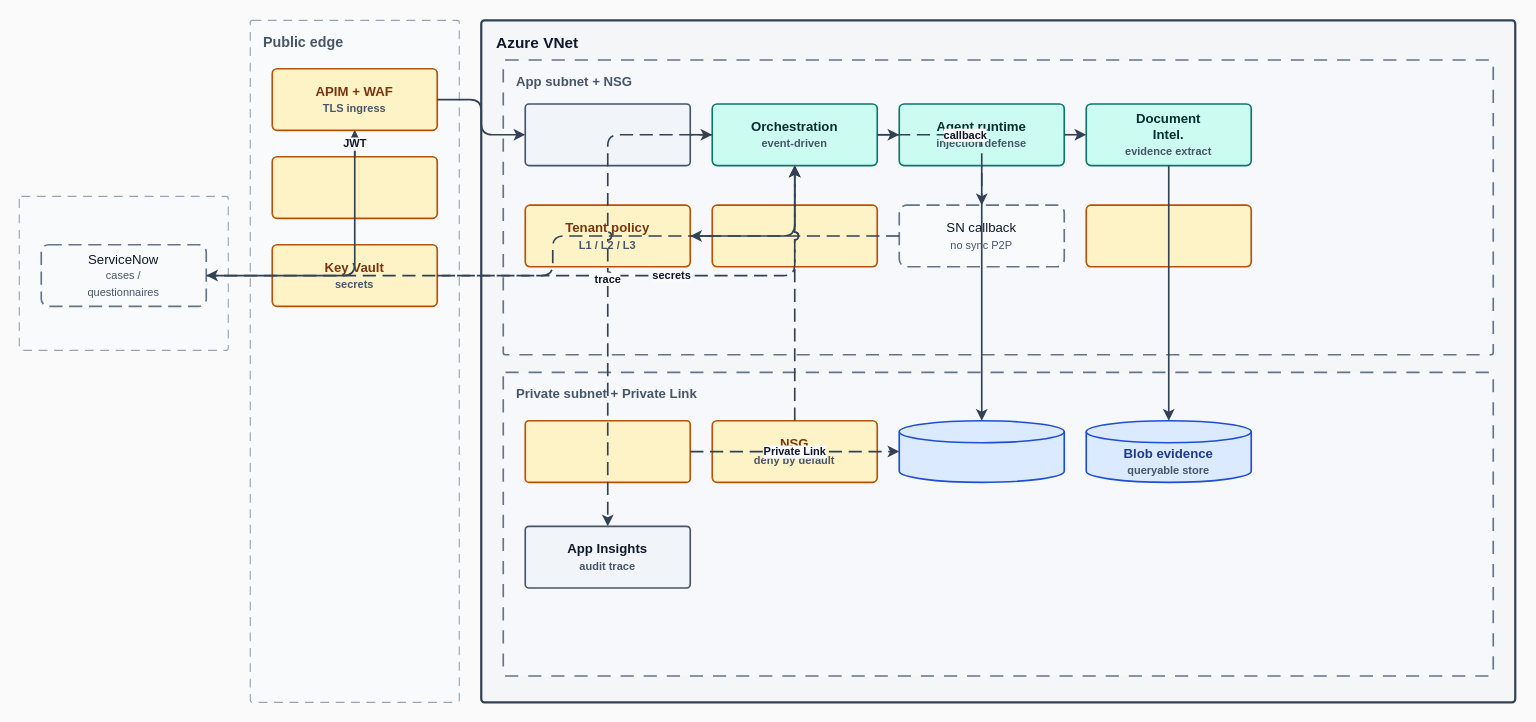
The diagram is 1536 pixels wide and 722 high, and some of its shapes have lost their labels. Here are the shapes that lost their labels. From the top down, the box of each, then its label:
(524, 103, 691, 166): Service Bus async backbone
(271, 155, 438, 219): Entra ID OIDC / RBAC
(711, 204, 878, 267): Kill switch one tenant
(1085, 204, 1252, 267): Gov rails reusable GenAI
(18, 195, 228, 350): External
(524, 419, 691, 483): Private Endpoints Cosmos / Blob
(898, 419, 1065, 483): Cosmos DB state / ABAC
